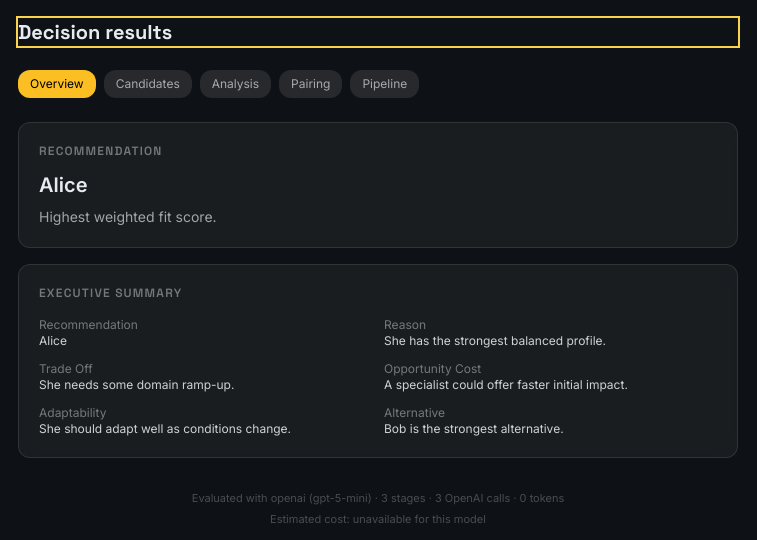
Test case: Results — pairing tab reflects honest pairing state, never a fabricated pair › shows the best pair and its metrics when pairing succeeded
Click the tab "Pairing" at (311, 84), box left=279, top=70, right=342, bottom=98
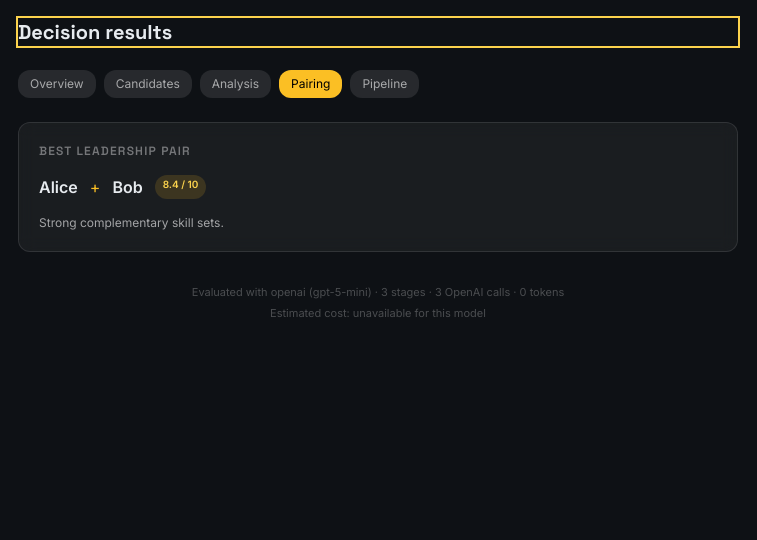
Expected: the text "Bob" is shown, left=112, top=175, right=143, bottom=199
Now the heading "Best Leadership Pair" is shown, box left=39, top=143, right=191, bottom=159
Now the text "Strong complementary skill sets." is shown, box left=39, top=215, right=224, bottom=230
